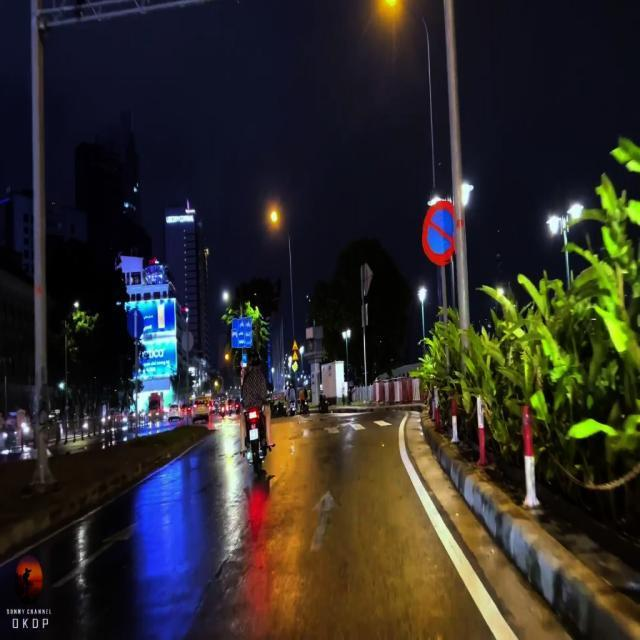131a-cam-do-xe: (421, 200, 458, 266)
407a-duong-mot-chieu: (128, 308, 146, 339)
